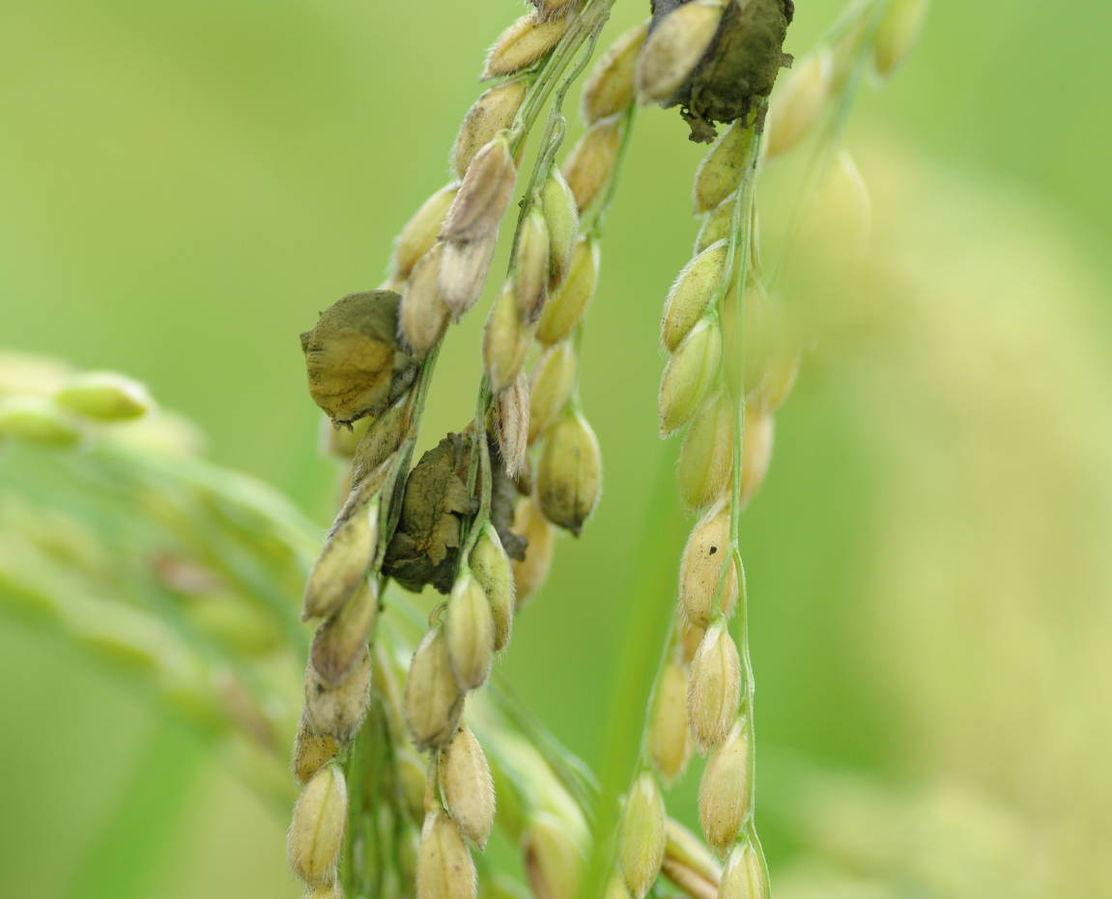False Smut: (670, 430, 815, 627), (310, 752, 472, 899), (622, 288, 722, 490)
